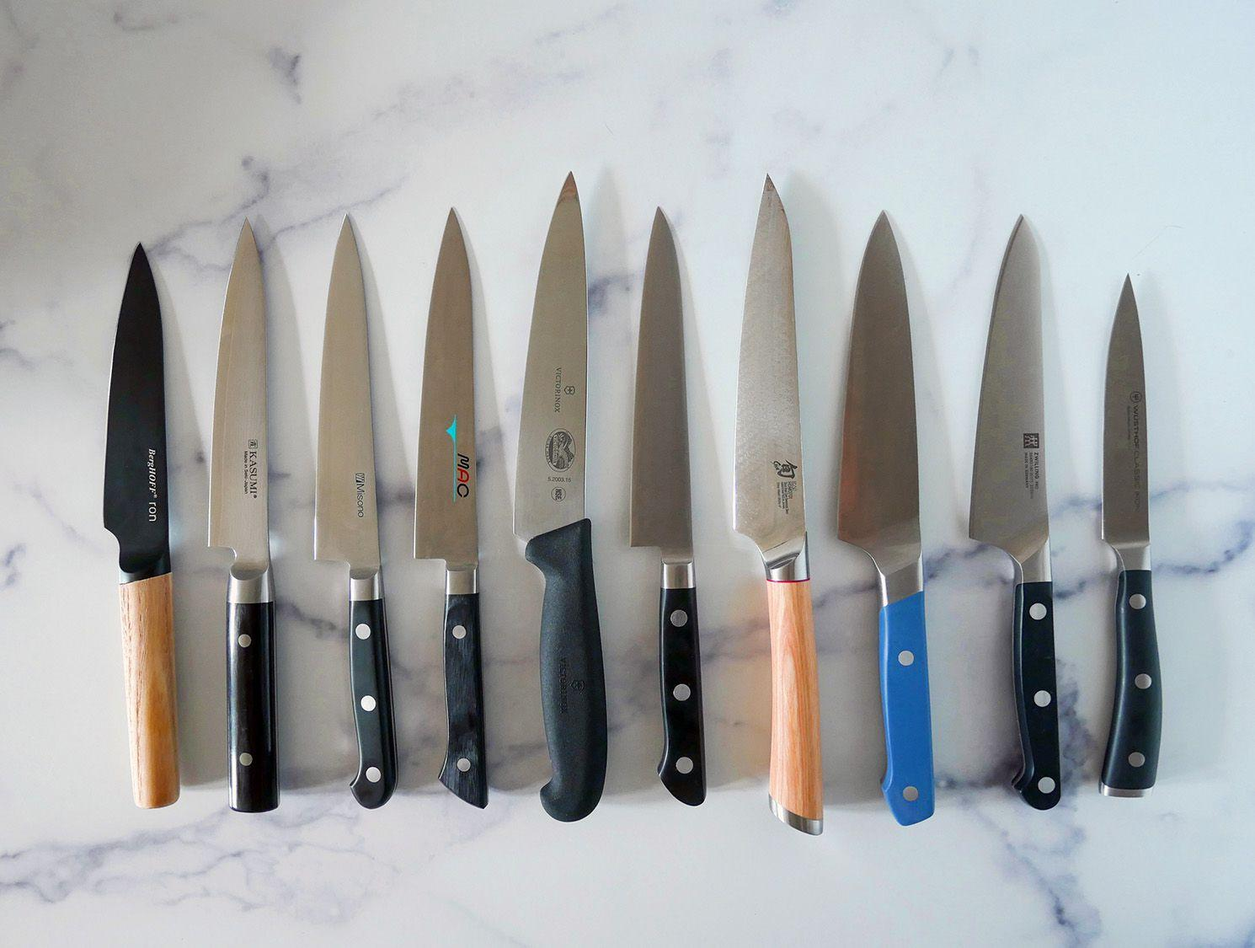Knife: (514, 167, 606, 822), (840, 211, 935, 827), (736, 177, 823, 832), (973, 218, 1061, 810), (316, 212, 398, 808), (632, 205, 706, 816), (106, 240, 182, 810), (415, 207, 487, 808), (211, 217, 280, 813), (1101, 273, 1162, 798)
